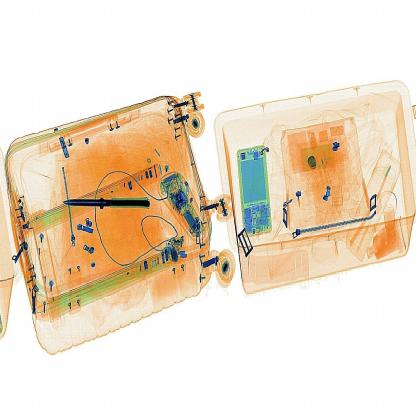gun: (51, 190, 158, 226)
